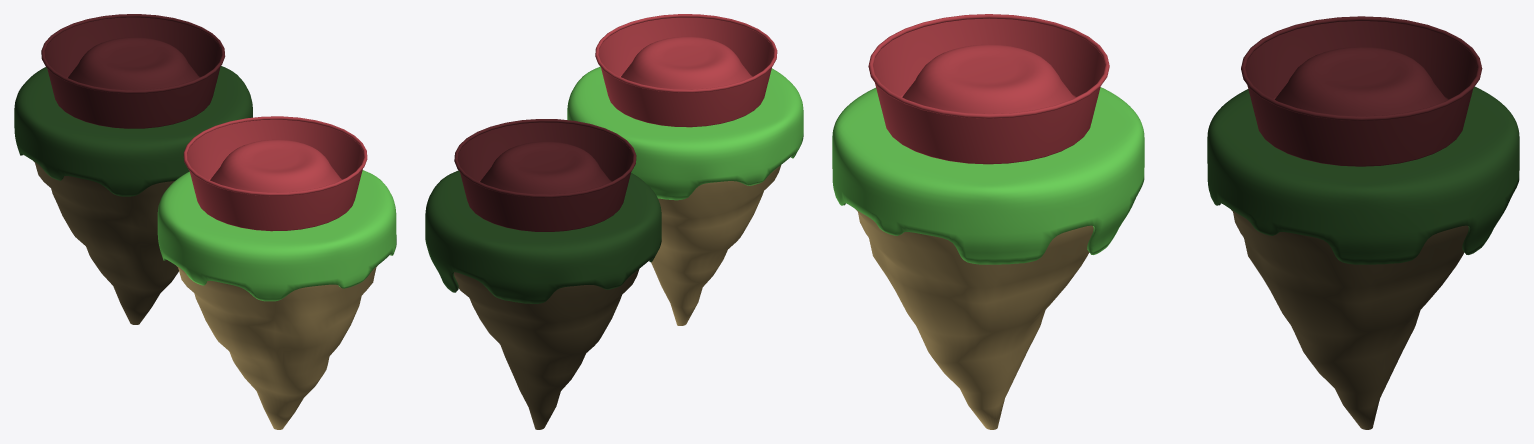
The model's file is сцена игра острова.fbx.
The picture shows the model from 3 angles, left to right: view 1: azimuth 30°, elevation 25°; view 2: azimuth 150°, elevation 25°; view 3: azimuth 270°, elevation 25°; orthographic projection. The views are drawn at different scales.
Parts seen in each view (by area): view 1: ostrov.004, ostrov.009, miska.009, miska.004; view 2: ostrov.009, ostrov.004, miska.004, miska.009; view 3: ostrov.004, ostrov.009, miska.009, miska.004.
Boxes of the visible parts, x1=… form: ostrov.004: x1=157, y1=170, x2=396, y2=429; ostrov.009: x1=14, y1=66, x2=252, y2=324; miska.009: x1=41, y1=14, x2=225, y2=128; miska.004: x1=183, y1=116, x2=367, y2=231; ostrov.009: x1=425, y1=170, x2=661, y2=429; ostrov.004: x1=567, y1=66, x2=803, y2=325; miska.004: x1=595, y1=14, x2=777, y2=127; miska.009: x1=454, y1=119, x2=636, y2=231; ostrov.004: x1=832, y1=87, x2=1144, y2=429; ostrov.009: x1=1207, y1=86, x2=1519, y2=429; miska.009: x1=1241, y1=16, x2=1482, y2=166; miska.004: x1=868, y1=14, x2=1109, y2=164.
Bounding box in the file's own units: 537 × 685 × 1182.
